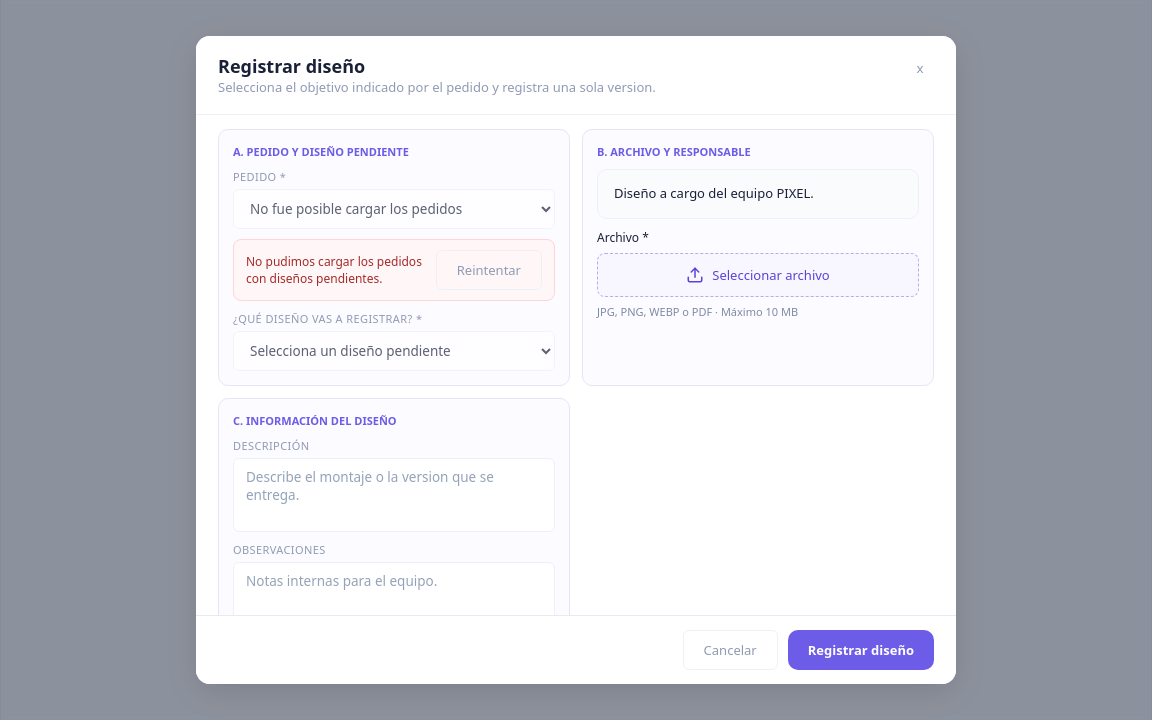
Test: DisenoModal requirements flow › shows a human orders error and retries without closing the modal
The width and height of the screenshot is (1152, 720).
Check: the text "No pudimos cargar los pedidos con diseños pendientes." is shown, box left=246, top=253, right=424, bottom=287
Check: the dropdown labelled "Pedido *" is disabled, box left=233, top=189, right=555, bottom=229
Click the button "Reintentar". click: (489, 270)
box: left=436, top=250, right=542, bottom=290
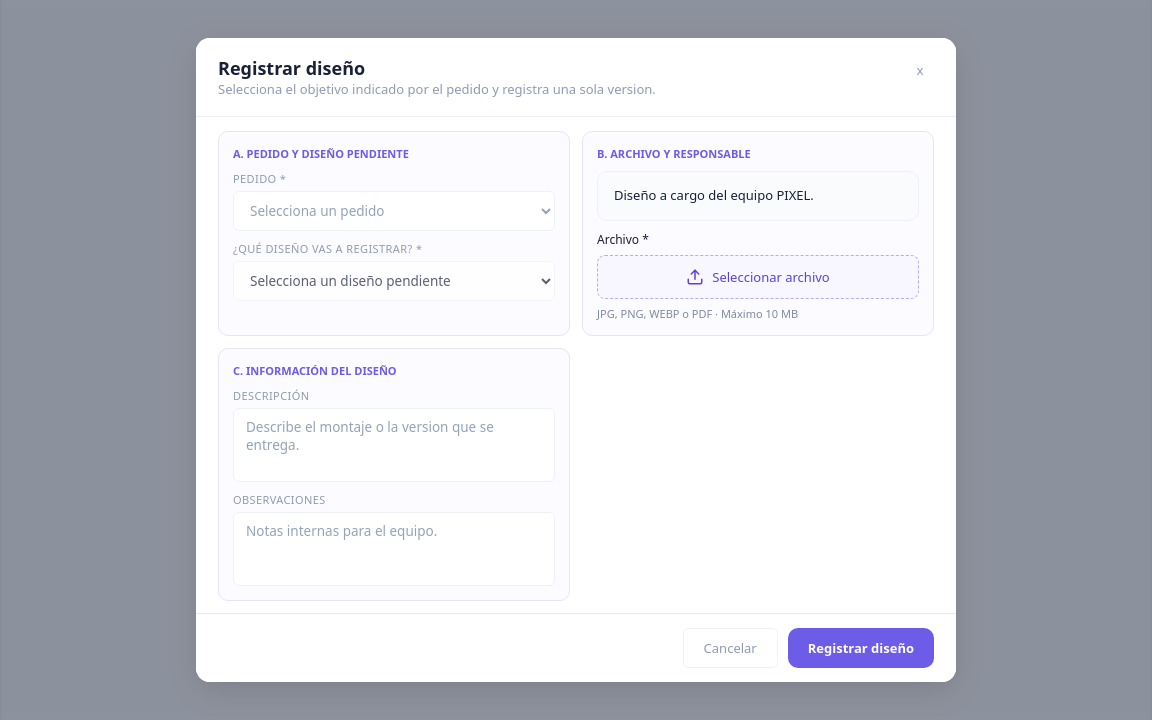
Check: the dropdown labelled "Pedido *" is enabled, box left=233, top=191, right=555, bottom=231
